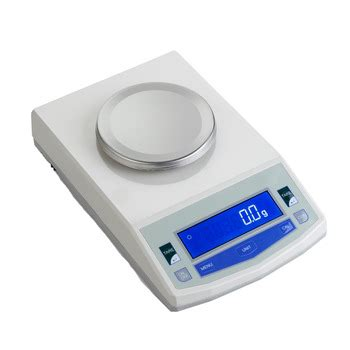Industrial Scale: (29, 50, 326, 313)
